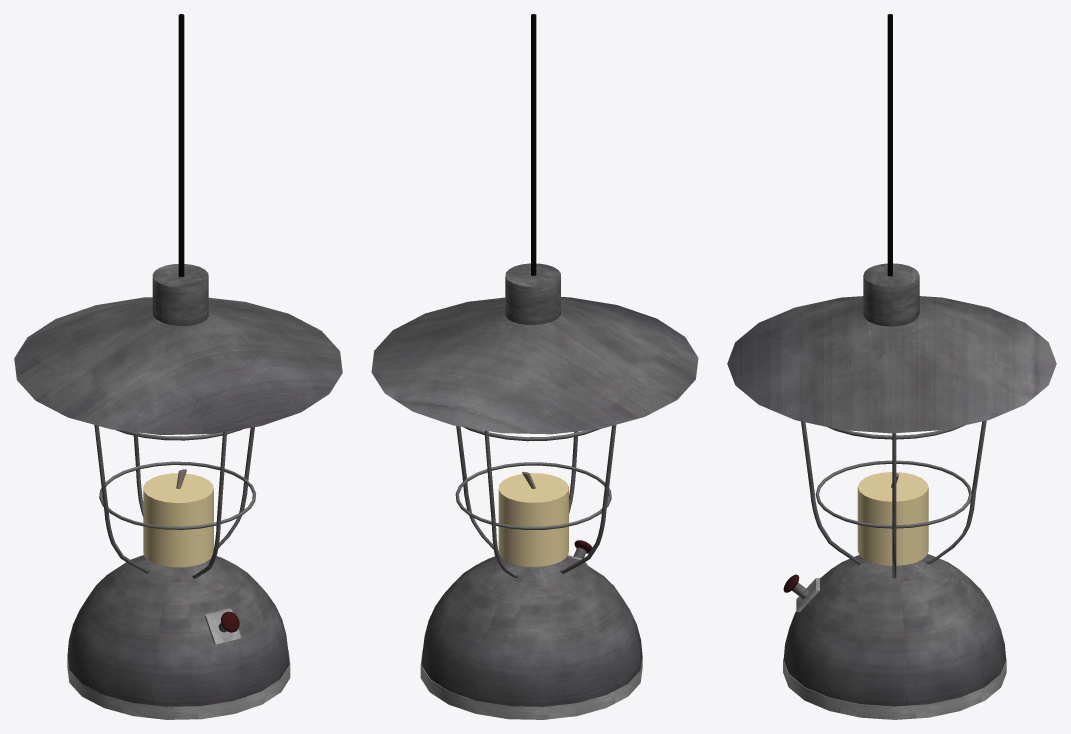
File: lampara.obj
3 renders of one model, left to right at view 1: azimuth 30°, elevation 25°; view 2: azimuth 150°, elevation 25°; view 3: azimuth 270°, elevation 25°, orthographic.
Parts seen in each view (by area): view 1: polySurface10; view 2: polySurface10; view 3: polySurface10.
Part boxes in pixels (<box>): polySurface10: <box>14,14,342,719</box>; polySurface10: <box>371,14,698,719</box>; polySurface10: <box>727,14,1056,719</box>.
Bounding box in the file's own units: 3.01 × 6.64 × 3.01.
Materials: 7 (4 with a texture image).
